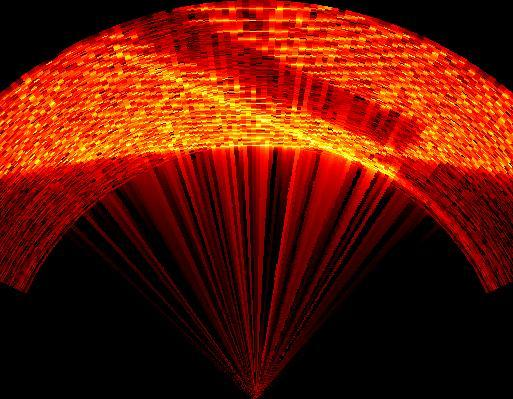pipe: (102, 6, 432, 178)
